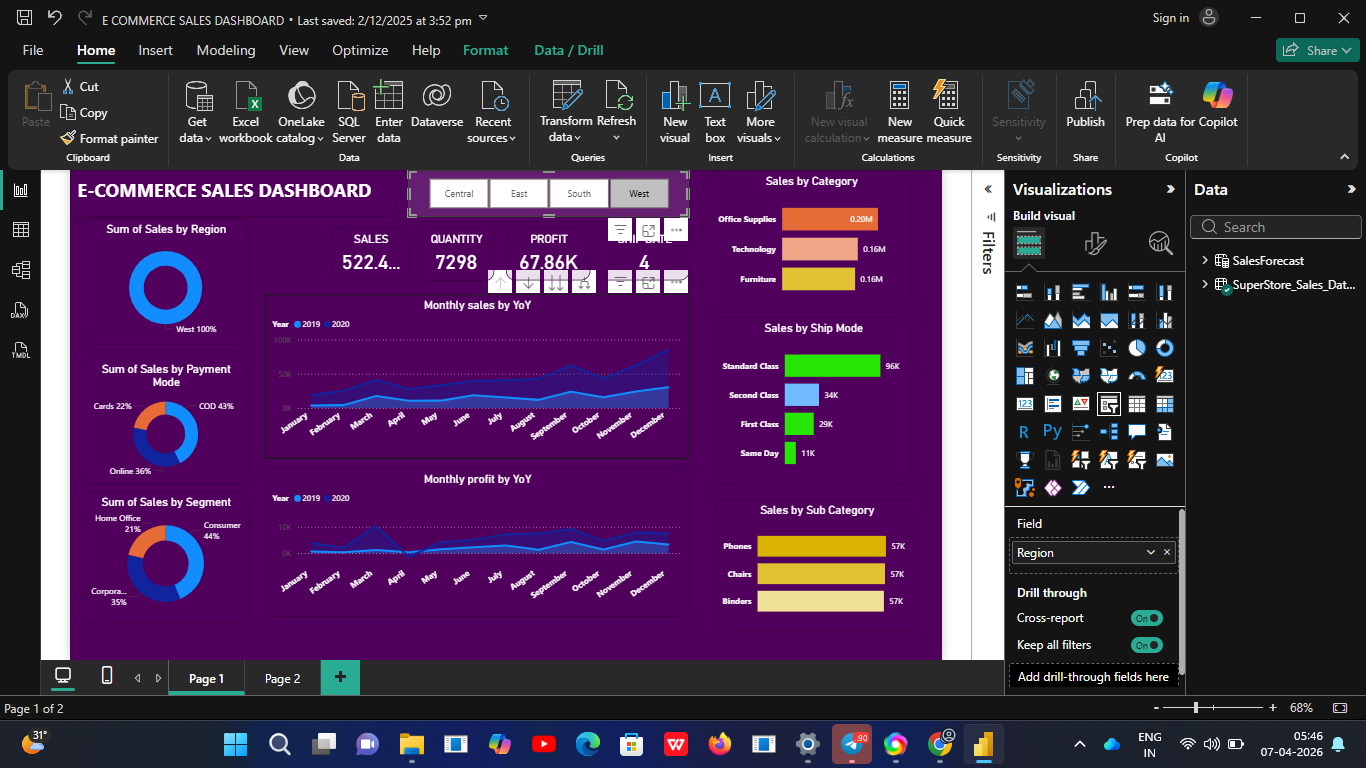

The page's visual inventory and layout, read from the dashboard file:
{"tool":"powerbi","page":{"name":"Page 1","canvas":[1280,720],"ordinal":0},"visuals":[{"type":"clusteredBarChart","title":" Sales by Category","fields":{"Category":["SuperStore_Sales_Dataset (2).Category"],"Y":["Sum(SuperStore_Sales_Dataset (2).Sales)"]},"box":[940,0,297.1,207.1],"z":0},{"type":"clusteredBarChart","title":" Sales by Sub Category","fields":{"Category":["SuperStore_Sales_Dataset (2).Sub-Category"],"Y":["Sum(SuperStore_Sales_Dataset (2).Sales)"]},"box":[945.7,482.9,301.4,194.3],"z":1000},{"type":"clusteredBarChart","title":" Sales by Ship Mode","fields":{"Category":["SuperStore_Sales_Dataset (2).Ship Mode"],"Y":["Sum(SuperStore_Sales_Dataset (2).Sales)"]},"box":[945.7,215.7,291.4,245.7],"z":2000},{"type":"stackedAreaChart","title":" Monthly sales by YoY","fields":{"Y":["Sum(SuperStore_Sales_Dataset (2).Sales)"],"Category":["SuperStore_Sales_Dataset (2).Order Date.Variation.Date Hierarchy.Month","SuperStore_Sales_Dataset (2).Order Date.Variation.Date Hierarchy.Day"],"Series":["SuperStore_Sales_Dataset (2).Order Date.Variation.Date Hierarchy.Year"]},"box":[287.1,182.9,622.9,241.4],"z":3000},{"type":"stackedAreaChart","title":" Monthly profit by YoY","fields":{"Category":["SuperStore_Sales_Dataset (2).Order Date.Variation.Date Hierarchy.Month","SuperStore_Sales_Dataset (2).Order Date.Variation.Date Hierarchy.Day"],"Series":["SuperStore_Sales_Dataset (2).Order Date.Variation.Date Hierarchy.Year"],"Y":["Sum(SuperStore_Sales_Dataset (2).Profit)"]},"box":[287.1,437.1,622.9,218.6],"z":4000},{"type":"donutChart","fields":{"Category":["SuperStore_Sales_Dataset (2).Segment"],"Y":["Sum(SuperStore_Sales_Dataset (2).Sales)"]},"box":[18.6,471.4,242.9,194.3],"z":5000},{"type":"donutChart","fields":{"Category":["SuperStore_Sales_Dataset (2).Payment Mode"],"Y":["Sum(SuperStore_Sales_Dataset (2).Sales)"]},"box":[18.6,275.7,242.9,185.7],"z":6000},{"type":"slicer","fields":{"Values":["SuperStore_Sales_Dataset (2).Region"]},"box":[497.1,0,412.9,68.6],"z":7000},{"type":"textbox","box":[0,0,478.6,68.6],"z":8000},{"type":"card","title":"SALES","fields":{"Values":["Sum(SuperStore_Sales_Dataset (2).Sales)"]},"box":[384.3,85.7,112.9,77.1],"z":8001},{"type":"card","title":"QUANTITY","fields":{"Values":["Sum(SuperStore_Sales_Dataset (2).Quantity)"]},"box":[511.4,85.7,111.4,77.1],"z":8002},{"type":"card","title":"PROFIT","fields":{"Values":["Sum(SuperStore_Sales_Dataset (2).Profit)"]},"box":[640,85.7,124.3,77.1],"z":8003},{"type":"card","title":"SHIP DATE","fields":{"Values":["Avg(SuperStore_Sales_Dataset (2).AvgDelivery)"]},"box":[777.1,85.7,132.9,77.1],"z":8004},{"type":"donutChart","fields":{"Category":["SuperStore_Sales_Dataset (2).Region"],"Y":["Sum(SuperStore_Sales_Dataset (2).Sales)"]},"box":[18.6,70,242.9,185.7],"z":8005}]}

Visuals, with their boxes on the page's 1280x720 design canvas (x1, y1, x2, y2). These are canvas units, not pixel positions in the 1366x768 screenshot, which may show the page scaled, cropped or inside an application window:
" Sales by Category" clusteredBarChart: 940,0,1237,207
" Sales by Sub Category" clusteredBarChart: 946,483,1247,677
" Sales by Ship Mode" clusteredBarChart: 946,216,1237,461
" Monthly sales by YoY" stackedAreaChart: 287,183,910,424
" Monthly profit by YoY" stackedAreaChart: 287,437,910,656
donutChart - SuperStore_Sales_Dataset (2).Segment x Sum(SuperStore_Sales_Dataset (2).Sales): 19,471,262,666
donutChart - SuperStore_Sales_Dataset (2).Payment Mode x Sum(SuperStore_Sales_Dataset (2).Sales): 19,276,262,461
slicer - SuperStore_Sales_Dataset (2).Region: 497,0,910,69
textbox: 0,0,479,69
"SALES" card: 384,86,497,163
"QUANTITY" card: 511,86,623,163
"PROFIT" card: 640,86,764,163
"SHIP DATE" card: 777,86,910,163
donutChart - SuperStore_Sales_Dataset (2).Region x Sum(SuperStore_Sales_Dataset (2).Sales): 19,70,262,256
